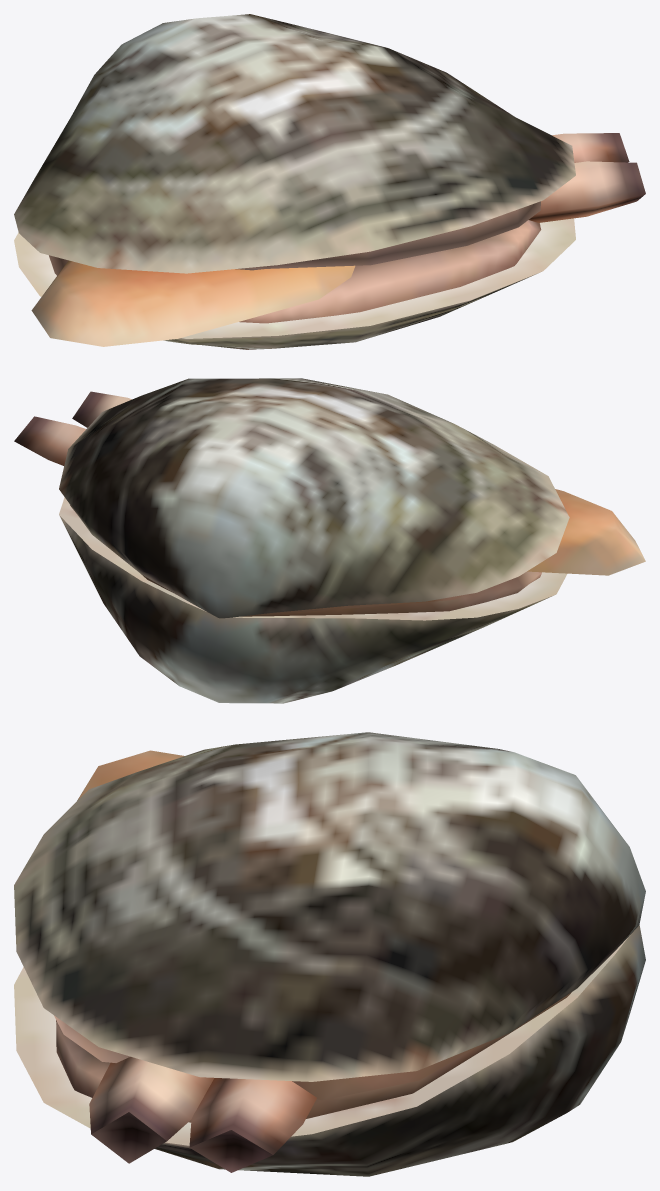
The model's file is ShellfishAsari.glb.
3 renders of one model, top to bottom at view 1: azimuth 30°, elevation 25°; view 2: azimuth 150°, elevation 25°; view 3: azimuth 270°, elevation 25°, orthographic. The views are drawn at different scales.
Parts seen in each view (by area): view 1: ShellfishAsari__mAsari; view 2: ShellfishAsari__mAsari; view 3: ShellfishAsari__mAsari.
Part boxes in pixels (box(x1,y1,x2,y2)): ShellfishAsari__mAsari: box(14, 14, 645, 349); ShellfishAsari__mAsari: box(14, 378, 645, 703); ShellfishAsari__mAsari: box(14, 732, 645, 1176).
Size of the model in its own units: 2.32 by 0.9823 by 1.55.
Materials: 1 (1 with a texture image).
